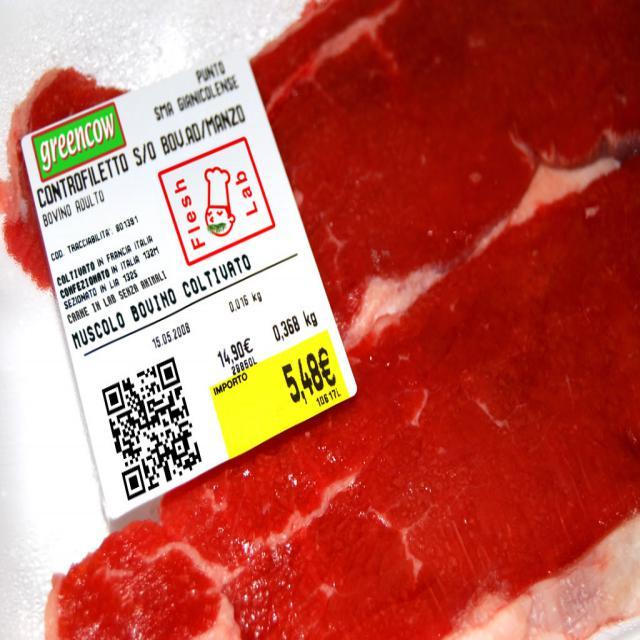qrcode: (102, 357, 203, 501)
